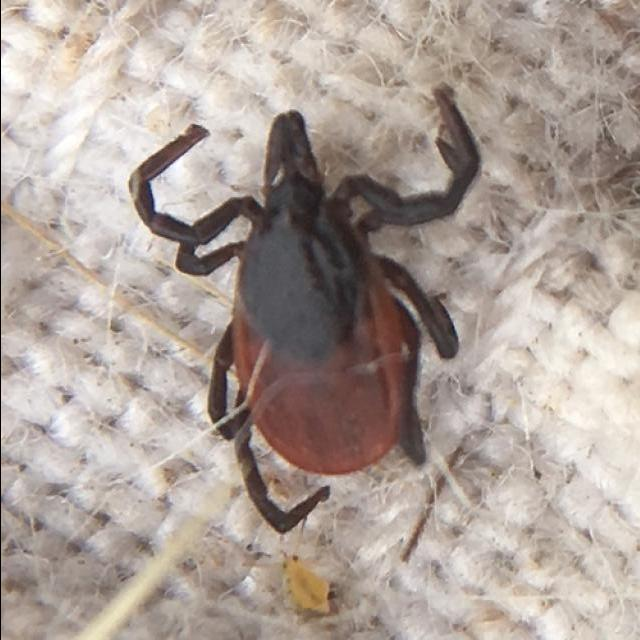Ixodes Ricinus-F: (128, 82, 479, 535)
